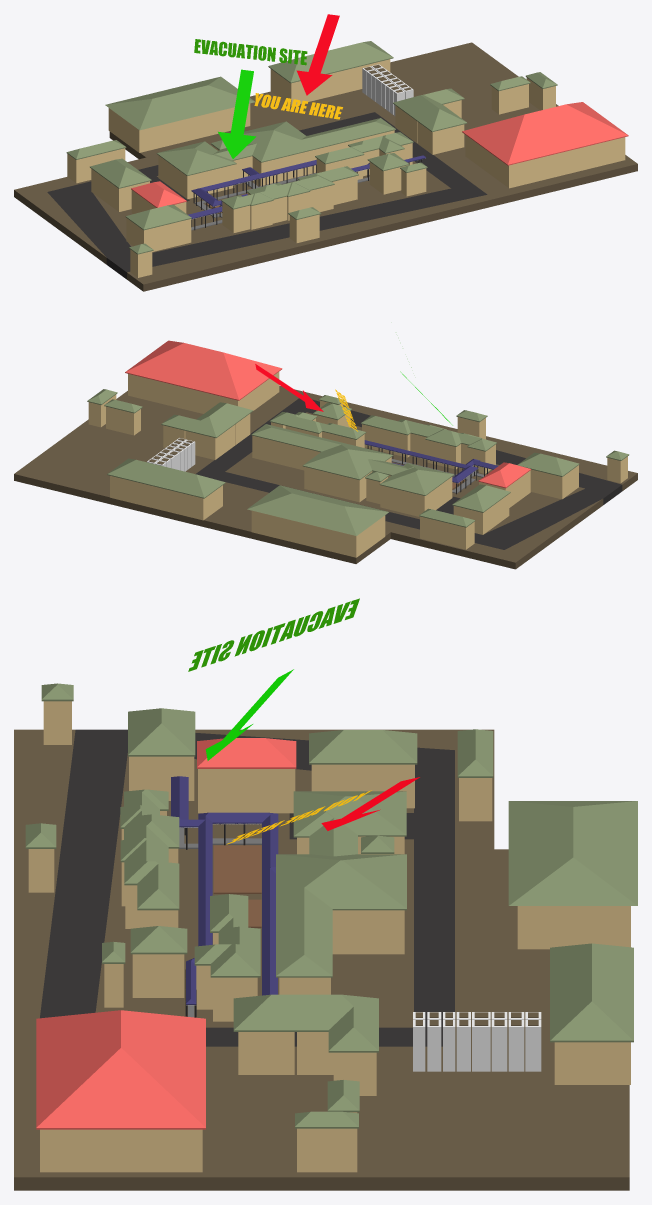
The model's file is MECHDEPARTMENT.glb.
The picture shows the model from 3 angles, top to bottom: view 1: azimuth 30°, elevation 25°; view 2: azimuth 150°, elevation 25°; view 3: azimuth 270°, elevation 25°; orthographic projection. The views are drawn at different scales.
Parts seen in each view (by area): view 1: Toposolid Grassland - 1200mm [352516], Toposolid Grassland - 1200mm [354195], Basic Roof Generic - 125mm [387914], Basic Roof Generic - 125mm [384035], Basic Roof Generic - 125mm [378573], Basic Wall Generic - 200mm [355787], Basic Wall Generic - 200mm [355672], Basic Roof Generic - 125mm [385592], Basic Roof Generic - 125mm [385698], Basic Roof Generic - 125mm [387351], Basic Wall Generic - 200mm [355773], Basic Wall Generic - 200mm [357350] (+29 smaller); view 2: Toposolid Grassland - 1200mm [352516], Toposolid Grassland - 1200mm [354195], Basic Roof Generic - 125mm [387914], Basic Roof Generic - 125mm [384035], Basic Roof Generic - 125mm [378573], Basic Wall Generic - 200mm [355757], Basic Roof Generic - 125mm [385592], Basic Wall Generic - 200mm [355771], Basic Wall Generic - 200mm [355789], Basic Roof Generic - 125mm [385698], Basic Roof Generic - 125mm [387351], Basic Wall Generic - 200mm [357221] (+25 smaller); view 3: Toposolid Grassland - 1200mm [352516], Toposolid Grassland - 1200mm [354195], Basic Roof Generic - 125mm [387914], Basic Roof Generic - 125mm [384035], Basic Roof Generic - 125mm [378573], Basic Roof Generic - 125mm [385592], Basic Wall Generic - 200mm [355788], Basic Roof Generic - 125mm [389243], Basic Roof Generic - 125mm [387351], Basic Roof Generic - 125mm [385698], Basic Wall Generic - 200mm [355719], Basic Wall Generic - 200mm [356699] (+27 smaller).
Part boxes in pixels (bbox=[...]): Toposolid Grassland - 1200mm [352516]: bbox=[14, 42, 637, 291]; Toposolid Grassland - 1200mm [354195]: bbox=[47, 112, 487, 279]; Basic Roof Generic - 125mm [387914]: bbox=[462, 102, 628, 165]; Basic Roof Generic - 125mm [384035]: bbox=[156, 118, 395, 175]; Basic Roof Generic - 125mm [378573]: bbox=[105, 76, 255, 130]; Basic Wall Generic - 200mm [355787]: bbox=[510, 137, 625, 187]; Basic Wall Generic - 200mm [355672]: bbox=[140, 103, 250, 152]; Basic Roof Generic - 125mm [385592]: bbox=[268, 41, 393, 83]; Basic Roof Generic - 125mm [385698]: bbox=[221, 166, 358, 209]; Basic Roof Generic - 125mm [387351]: bbox=[393, 88, 467, 131]; Basic Wall Generic - 200mm [355773]: bbox=[292, 59, 390, 104]; Basic Wall Generic - 200mm [357350]: bbox=[260, 130, 393, 185]; Toposolid Grassland - 1200mm [352516]: bbox=[14, 385, 637, 569]; Toposolid Grassland - 1200mm [354195]: bbox=[195, 398, 622, 549]; Basic Roof Generic - 125mm [387914]: bbox=[125, 340, 282, 400]; Basic Roof Generic - 125mm [384035]: bbox=[251, 424, 454, 495]; Basic Roof Generic - 125mm [378573]: bbox=[247, 485, 388, 535]; Basic Wall Generic - 200mm [355757]: bbox=[252, 511, 355, 557]; Basic Roof Generic - 125mm [385592]: bbox=[107, 458, 225, 498]; Basic Wall Generic - 200mm [355771]: bbox=[111, 476, 203, 520]; Basic Wall Generic - 200mm [355789]: bbox=[129, 374, 238, 413]; Basic Roof Generic - 125mm [385698]: bbox=[361, 415, 496, 451]; Basic Roof Generic - 125mm [387351]: bbox=[161, 402, 253, 437]; Basic Wall Generic - 200mm [357221]: bbox=[252, 435, 320, 470]; Toposolid Grassland - 1200mm [352516]: bbox=[14, 729, 629, 1190]; Toposolid Grassland - 1200mm [354195]: bbox=[40, 729, 454, 1046]; Basic Roof Generic - 125mm [387914]: bbox=[36, 1010, 205, 1129]; Basic Roof Generic - 125mm [384035]: bbox=[276, 791, 406, 977]; Basic Roof Generic - 125mm [378573]: bbox=[508, 801, 637, 905]; Basic Roof Generic - 125mm [385592]: bbox=[550, 943, 633, 1042]; Basic Wall Generic - 200mm [355788]: bbox=[42, 1129, 202, 1172]; Basic Roof Generic - 125mm [389243]: bbox=[171, 776, 278, 1004]; Basic Roof Generic - 125mm [387351]: bbox=[233, 994, 378, 1052]; Basic Roof Generic - 125mm [385698]: bbox=[120, 789, 179, 910]; Basic Wall Generic - 200mm [355719]: bbox=[520, 906, 630, 949]; Basic Wall Generic - 200mm [356699]: bbox=[200, 769, 295, 813].
Bounding box in the file's own units: 86 × 25.38 × 50.68.
